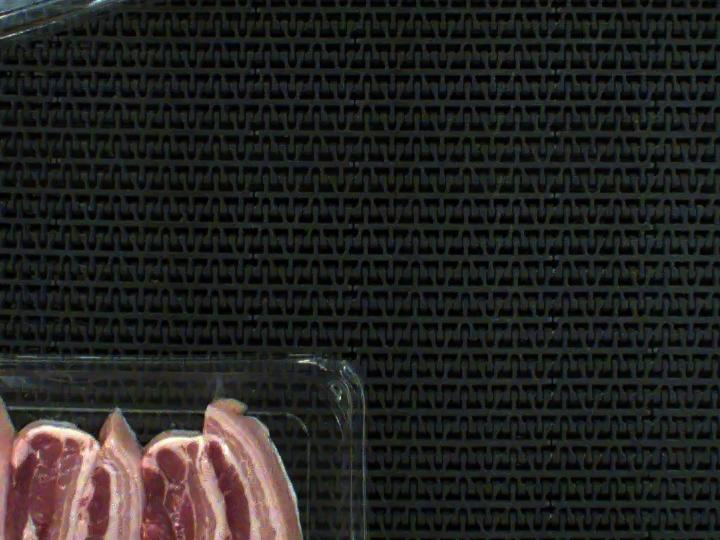packaging-error: (0, 353, 304, 430)
